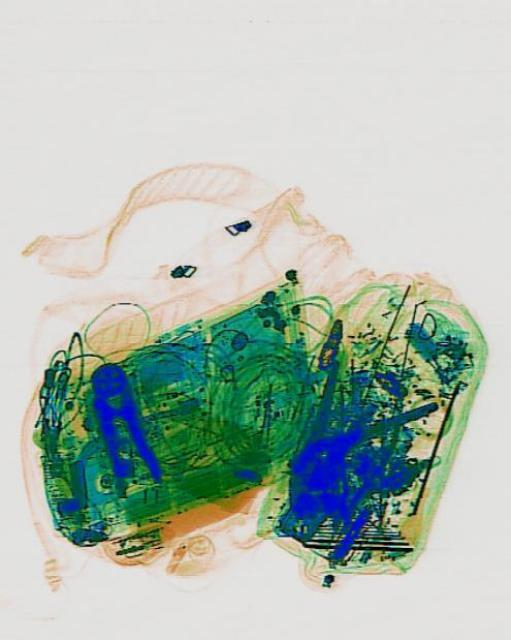Pliers: (77, 355, 161, 495)
